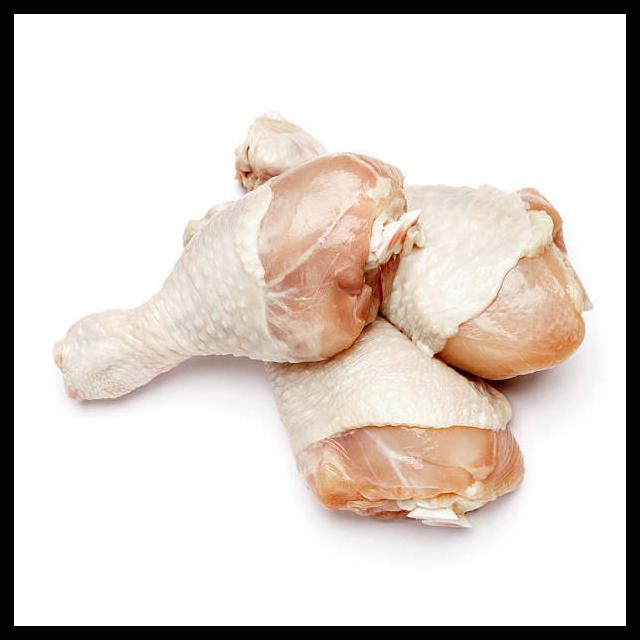chicken: (233, 116, 523, 533), (49, 156, 417, 401), (366, 183, 592, 380)
